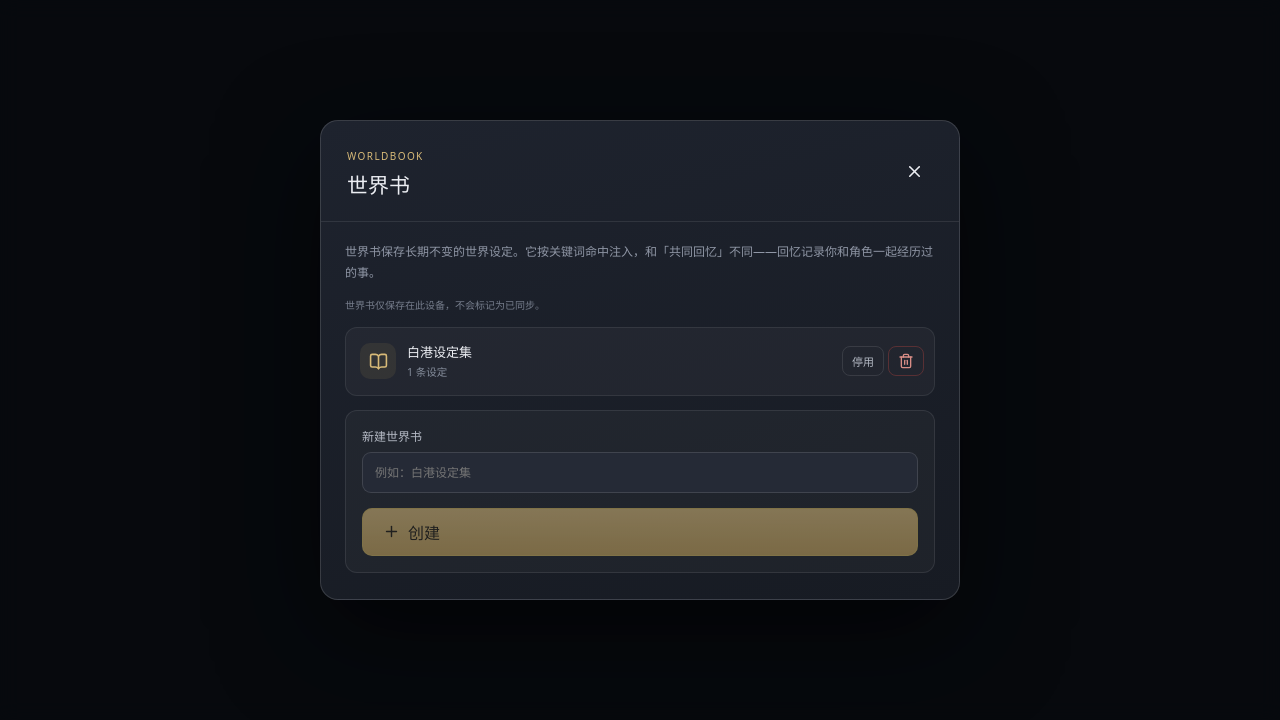
Test case: WorldbookPanel › opens a book, shows its entries, and adds a new one
The image size is (1280, 720).
Step 1. Click the button with aria-label "打开世界书 白港设定集" → [378, 361], box [350, 332, 834, 391]
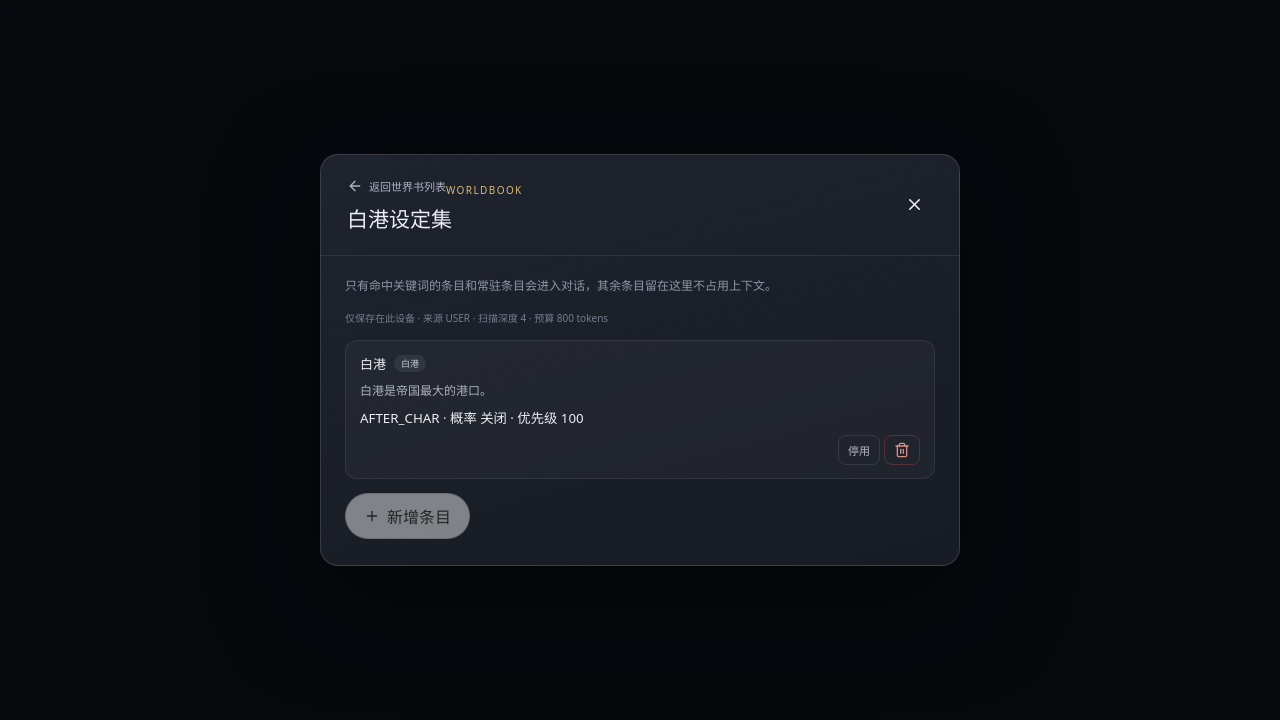
Expected: the text "白港是帝国最大的港口。" is shown, [360, 382, 492, 399]
Step 2. Click the button "新增条目" → [408, 516], box [345, 493, 470, 539]
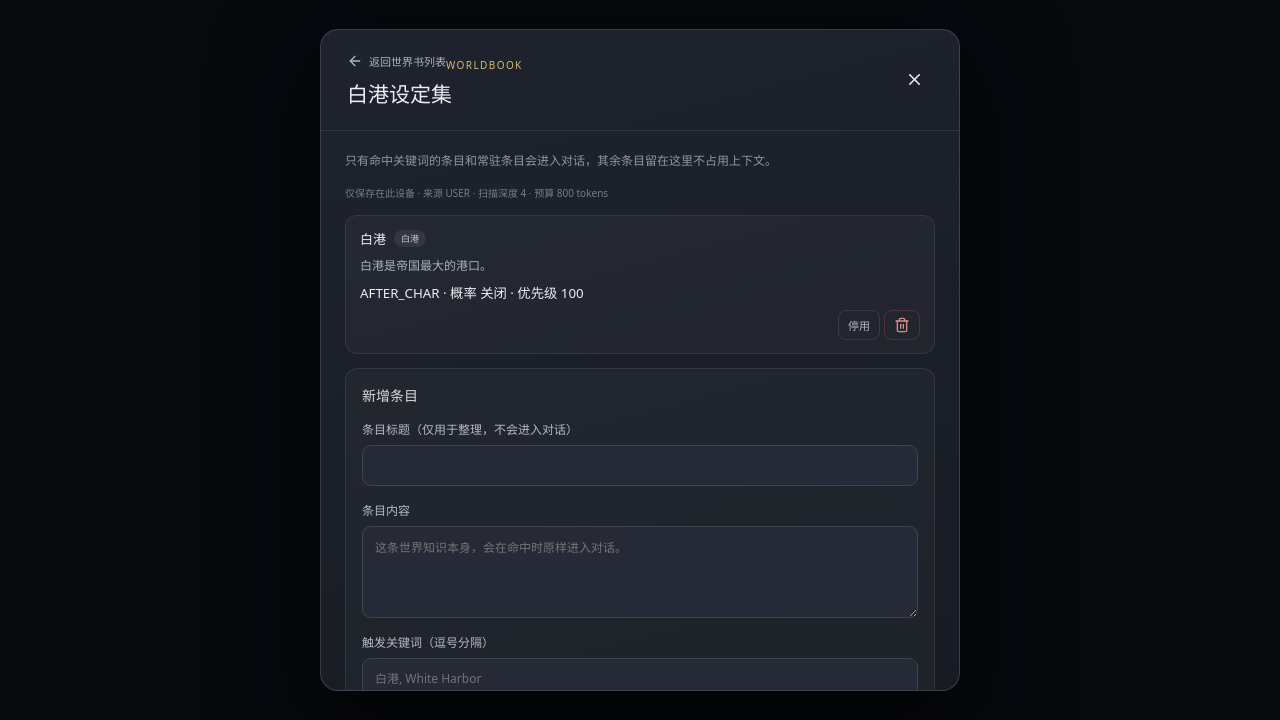
Step 3. Type "铁卫" into the field labelled "条目标题" → [640, 466], box [362, 445, 918, 486]
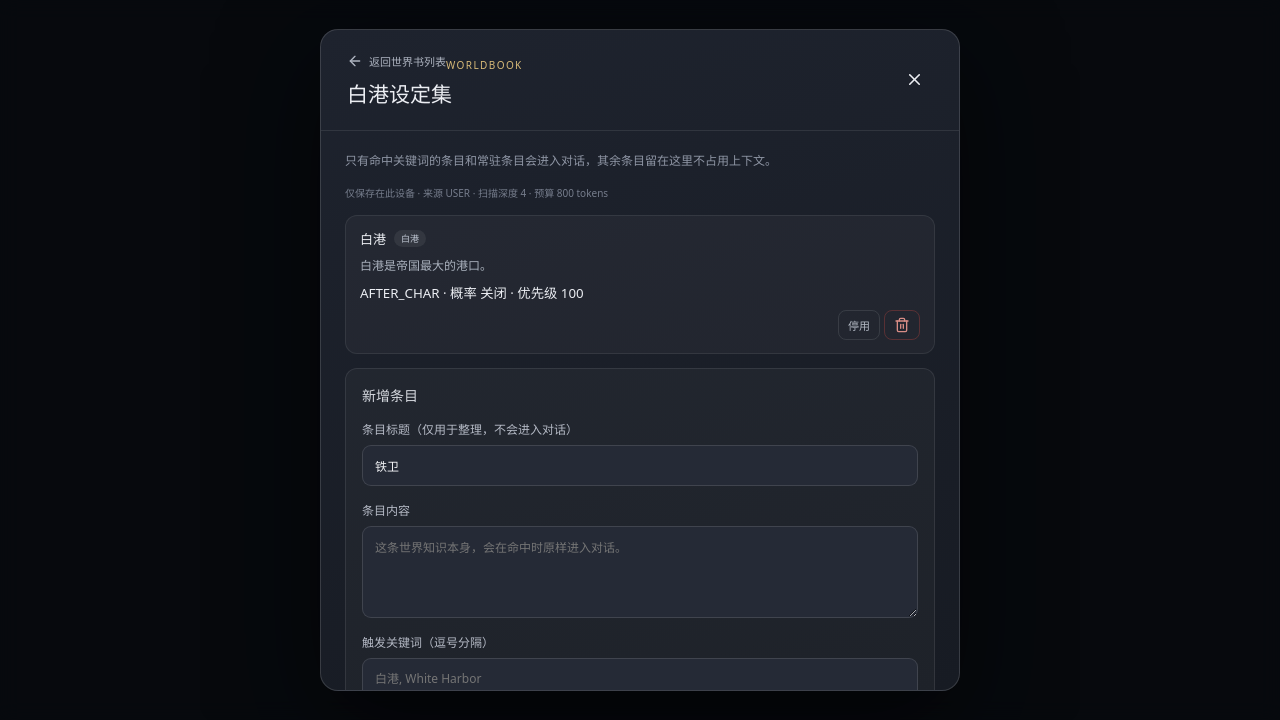
Step 4. Type "铁卫效忠皇室。" into the text box labelled "条目内容" → [640, 572], box [362, 526, 918, 618]
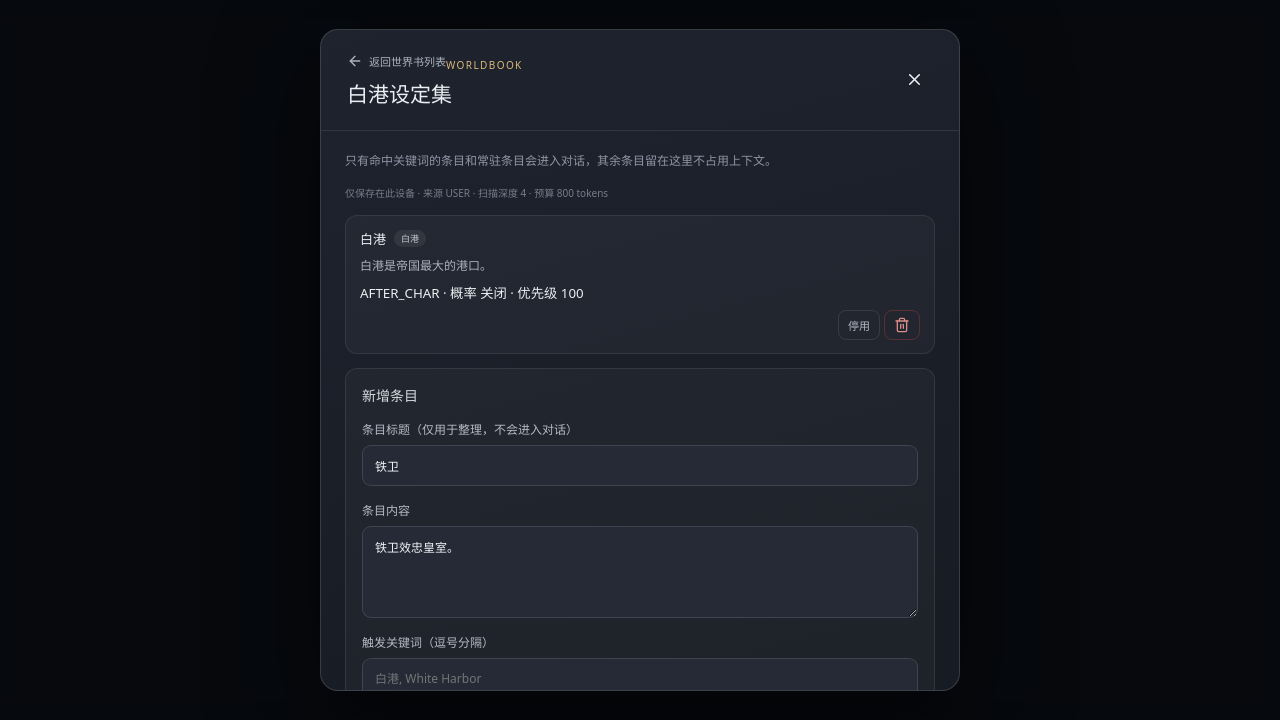
Step 5. Type "铁卫, 卫兵" into the field labelled "触发关键词" → [640, 679], box [362, 658, 918, 699]
(page scrolled)
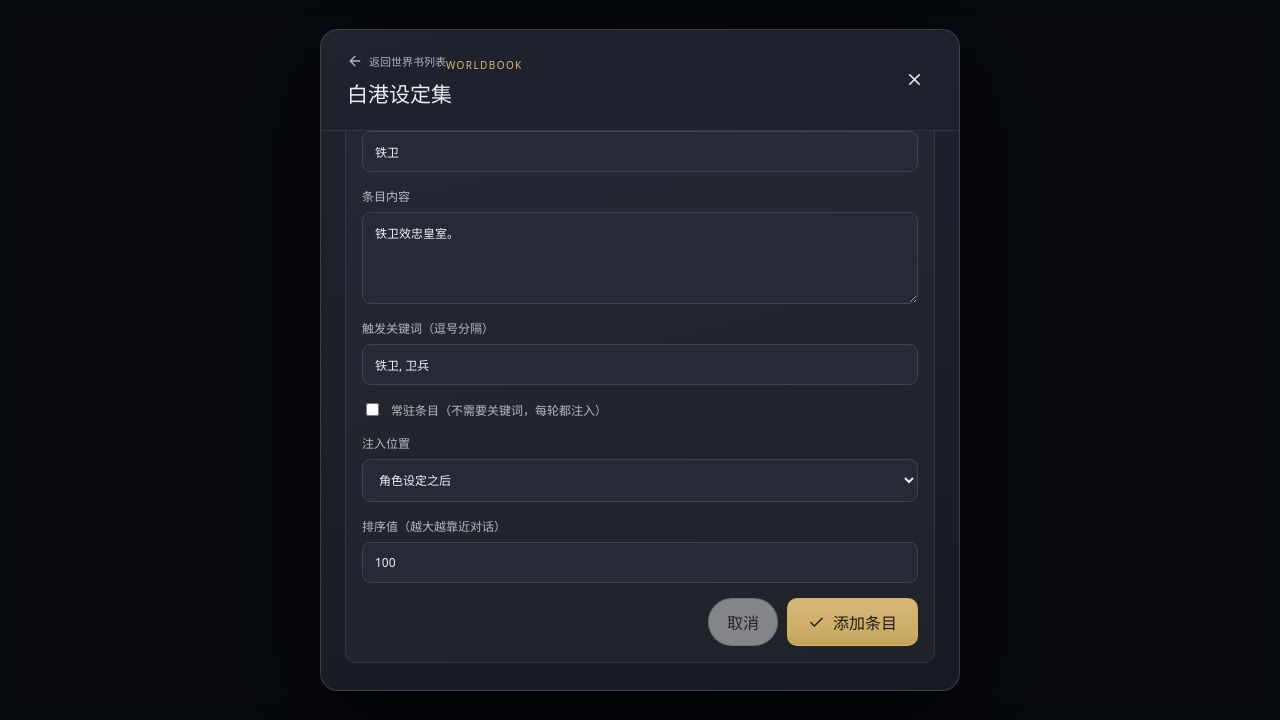
Step 6. Click the button "添加条目" → [852, 622], box [787, 598, 918, 646]
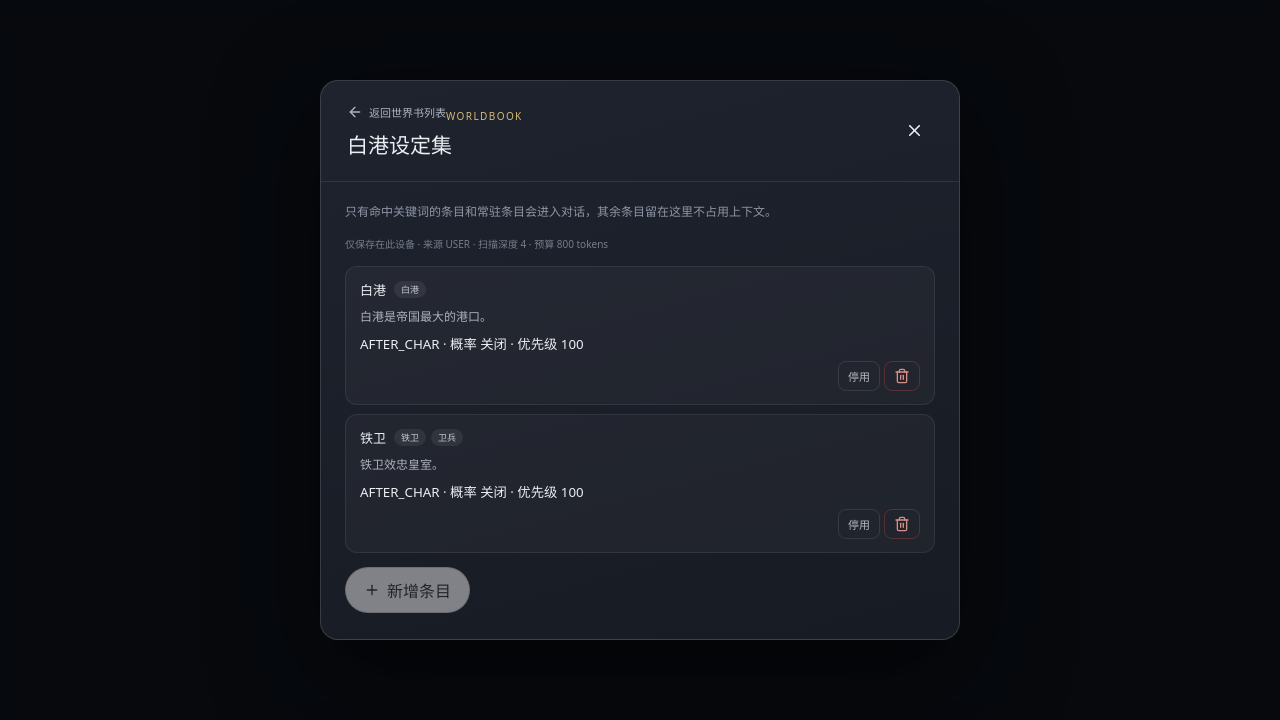
Expected: the text "铁卫效忠皇室。" is shown, [360, 456, 444, 473]
